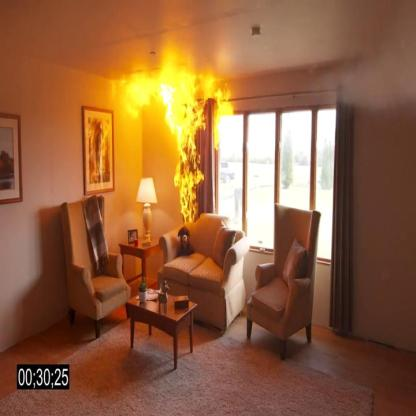fire: (117, 60, 237, 226)
